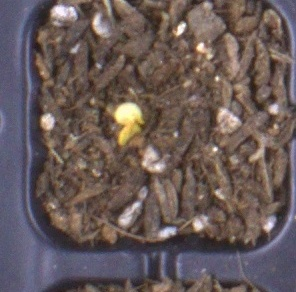chilli seed: (113, 102, 145, 127), (118, 122, 140, 146)
